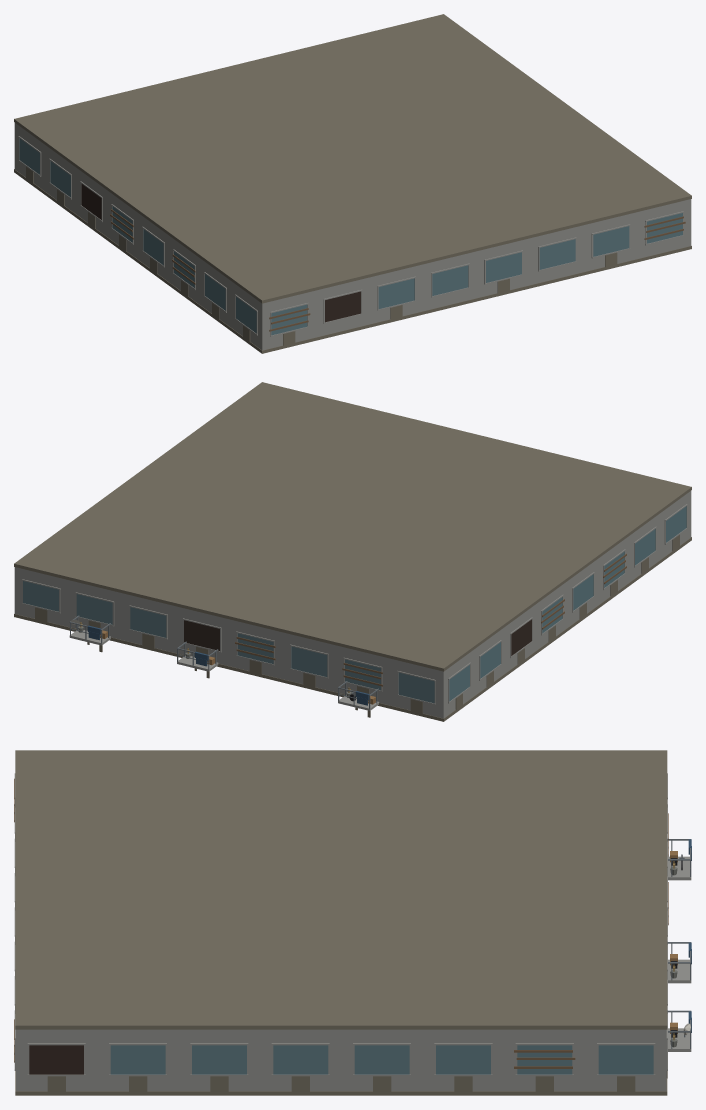
Rendered from tw_slab_32_floor.glb.
3 renders of one model, top to bottom at view 1: azimuth 30°, elevation 25°; view 2: azimuth 150°, elevation 25°; view 3: azimuth 270°, elevation 25°, orthographic. The views are drawn at different scales.
Visible parts, largest first — view 1: tw_slab_32_floor; view 2: tw_slab_32_floor; view 3: tw_slab_32_floor.
Part boxes in pixels (x1,y1,x2,y2): tw_slab_32_floor: [14, 14, 691, 353]; tw_slab_32_floor: [14, 382, 691, 721]; tw_slab_32_floor: [14, 750, 691, 1095].
Bounding box in the file's own units: 32.2 × 4.78 × 33.34.
Materials: 3 (3 with a texture image).
